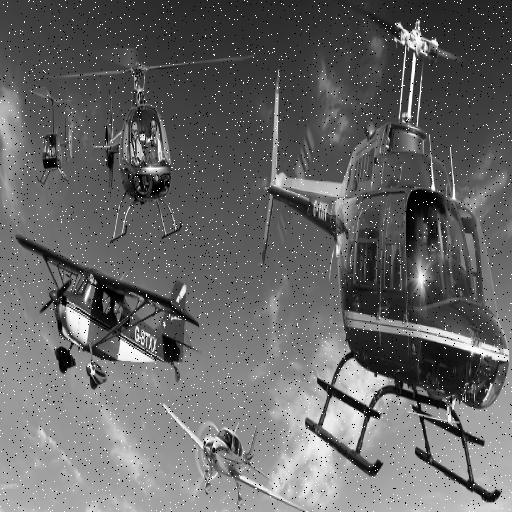helicopter: (260, 1, 512, 512), (67, 59, 254, 245), (29, 85, 84, 187)
